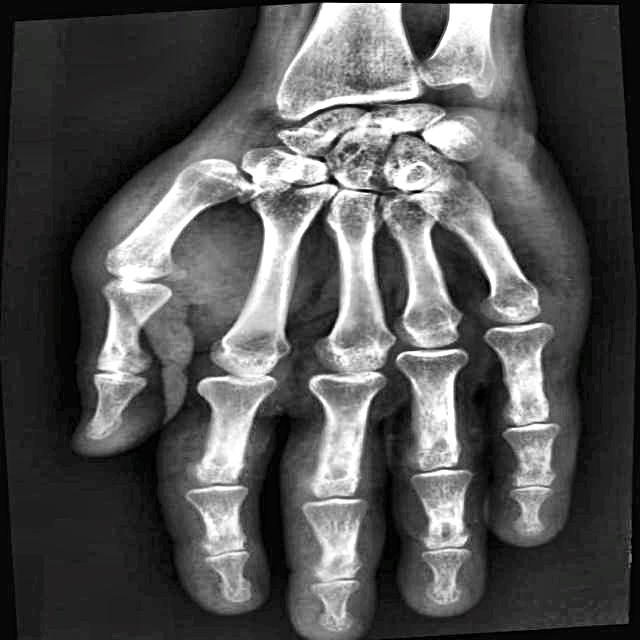Healthy: (85, 89, 606, 585)
